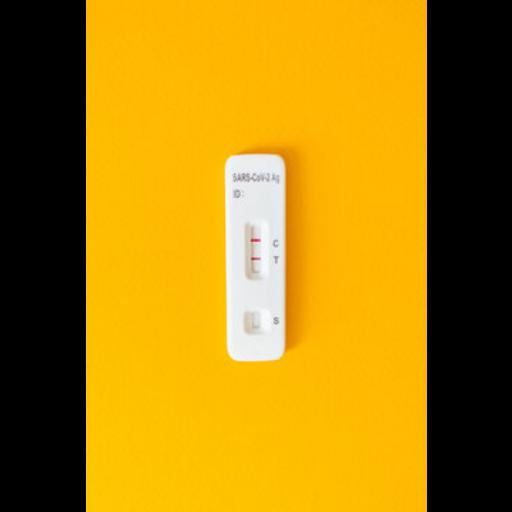Pos: (226, 156, 284, 356)
